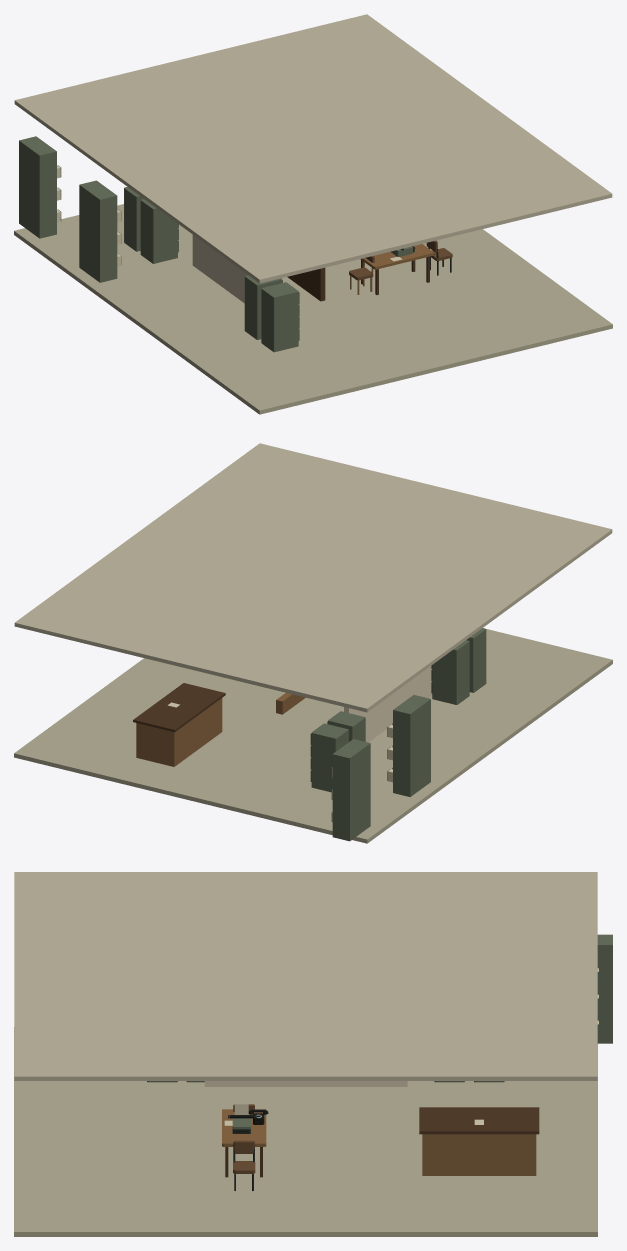
Rendered from SM_Town_Sheriff_Interior_LOD2.fbx.
3 renders of one model, top to bottom at view 1: azimuth 30°, elevation 25°; view 2: azimuth 150°, elevation 25°; view 3: azimuth 270°, elevation 25°, orthographic. The views are drawn at different scales.
Parts seen in each view (by area): view 1: SM_Town_Sheriff_Interior_LOD2; view 2: SM_Town_Sheriff_Interior_LOD2; view 3: SM_Town_Sheriff_Interior_LOD2.
Boxes of the visible parts, x1,y1,x2,y2 form: SM_Town_Sheriff_Interior_LOD2: [14, 14, 612, 414]; SM_Town_Sheriff_Interior_LOD2: [14, 443, 612, 843]; SM_Town_Sheriff_Interior_LOD2: [14, 872, 612, 1236].
Bounding box in the file's own units: 9.8 × 12.1 × 3.57.
